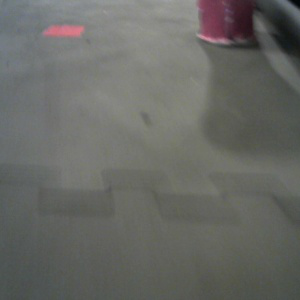Right: (195, 1, 259, 46)
